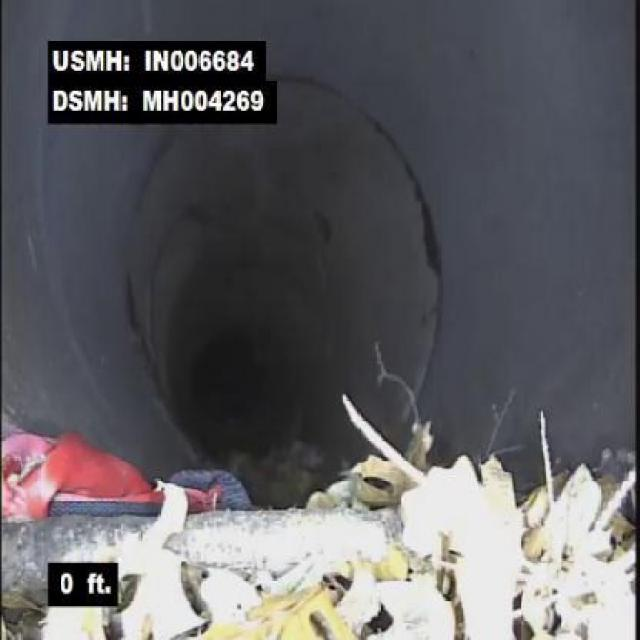Obstacle: (12, 434, 638, 629)
